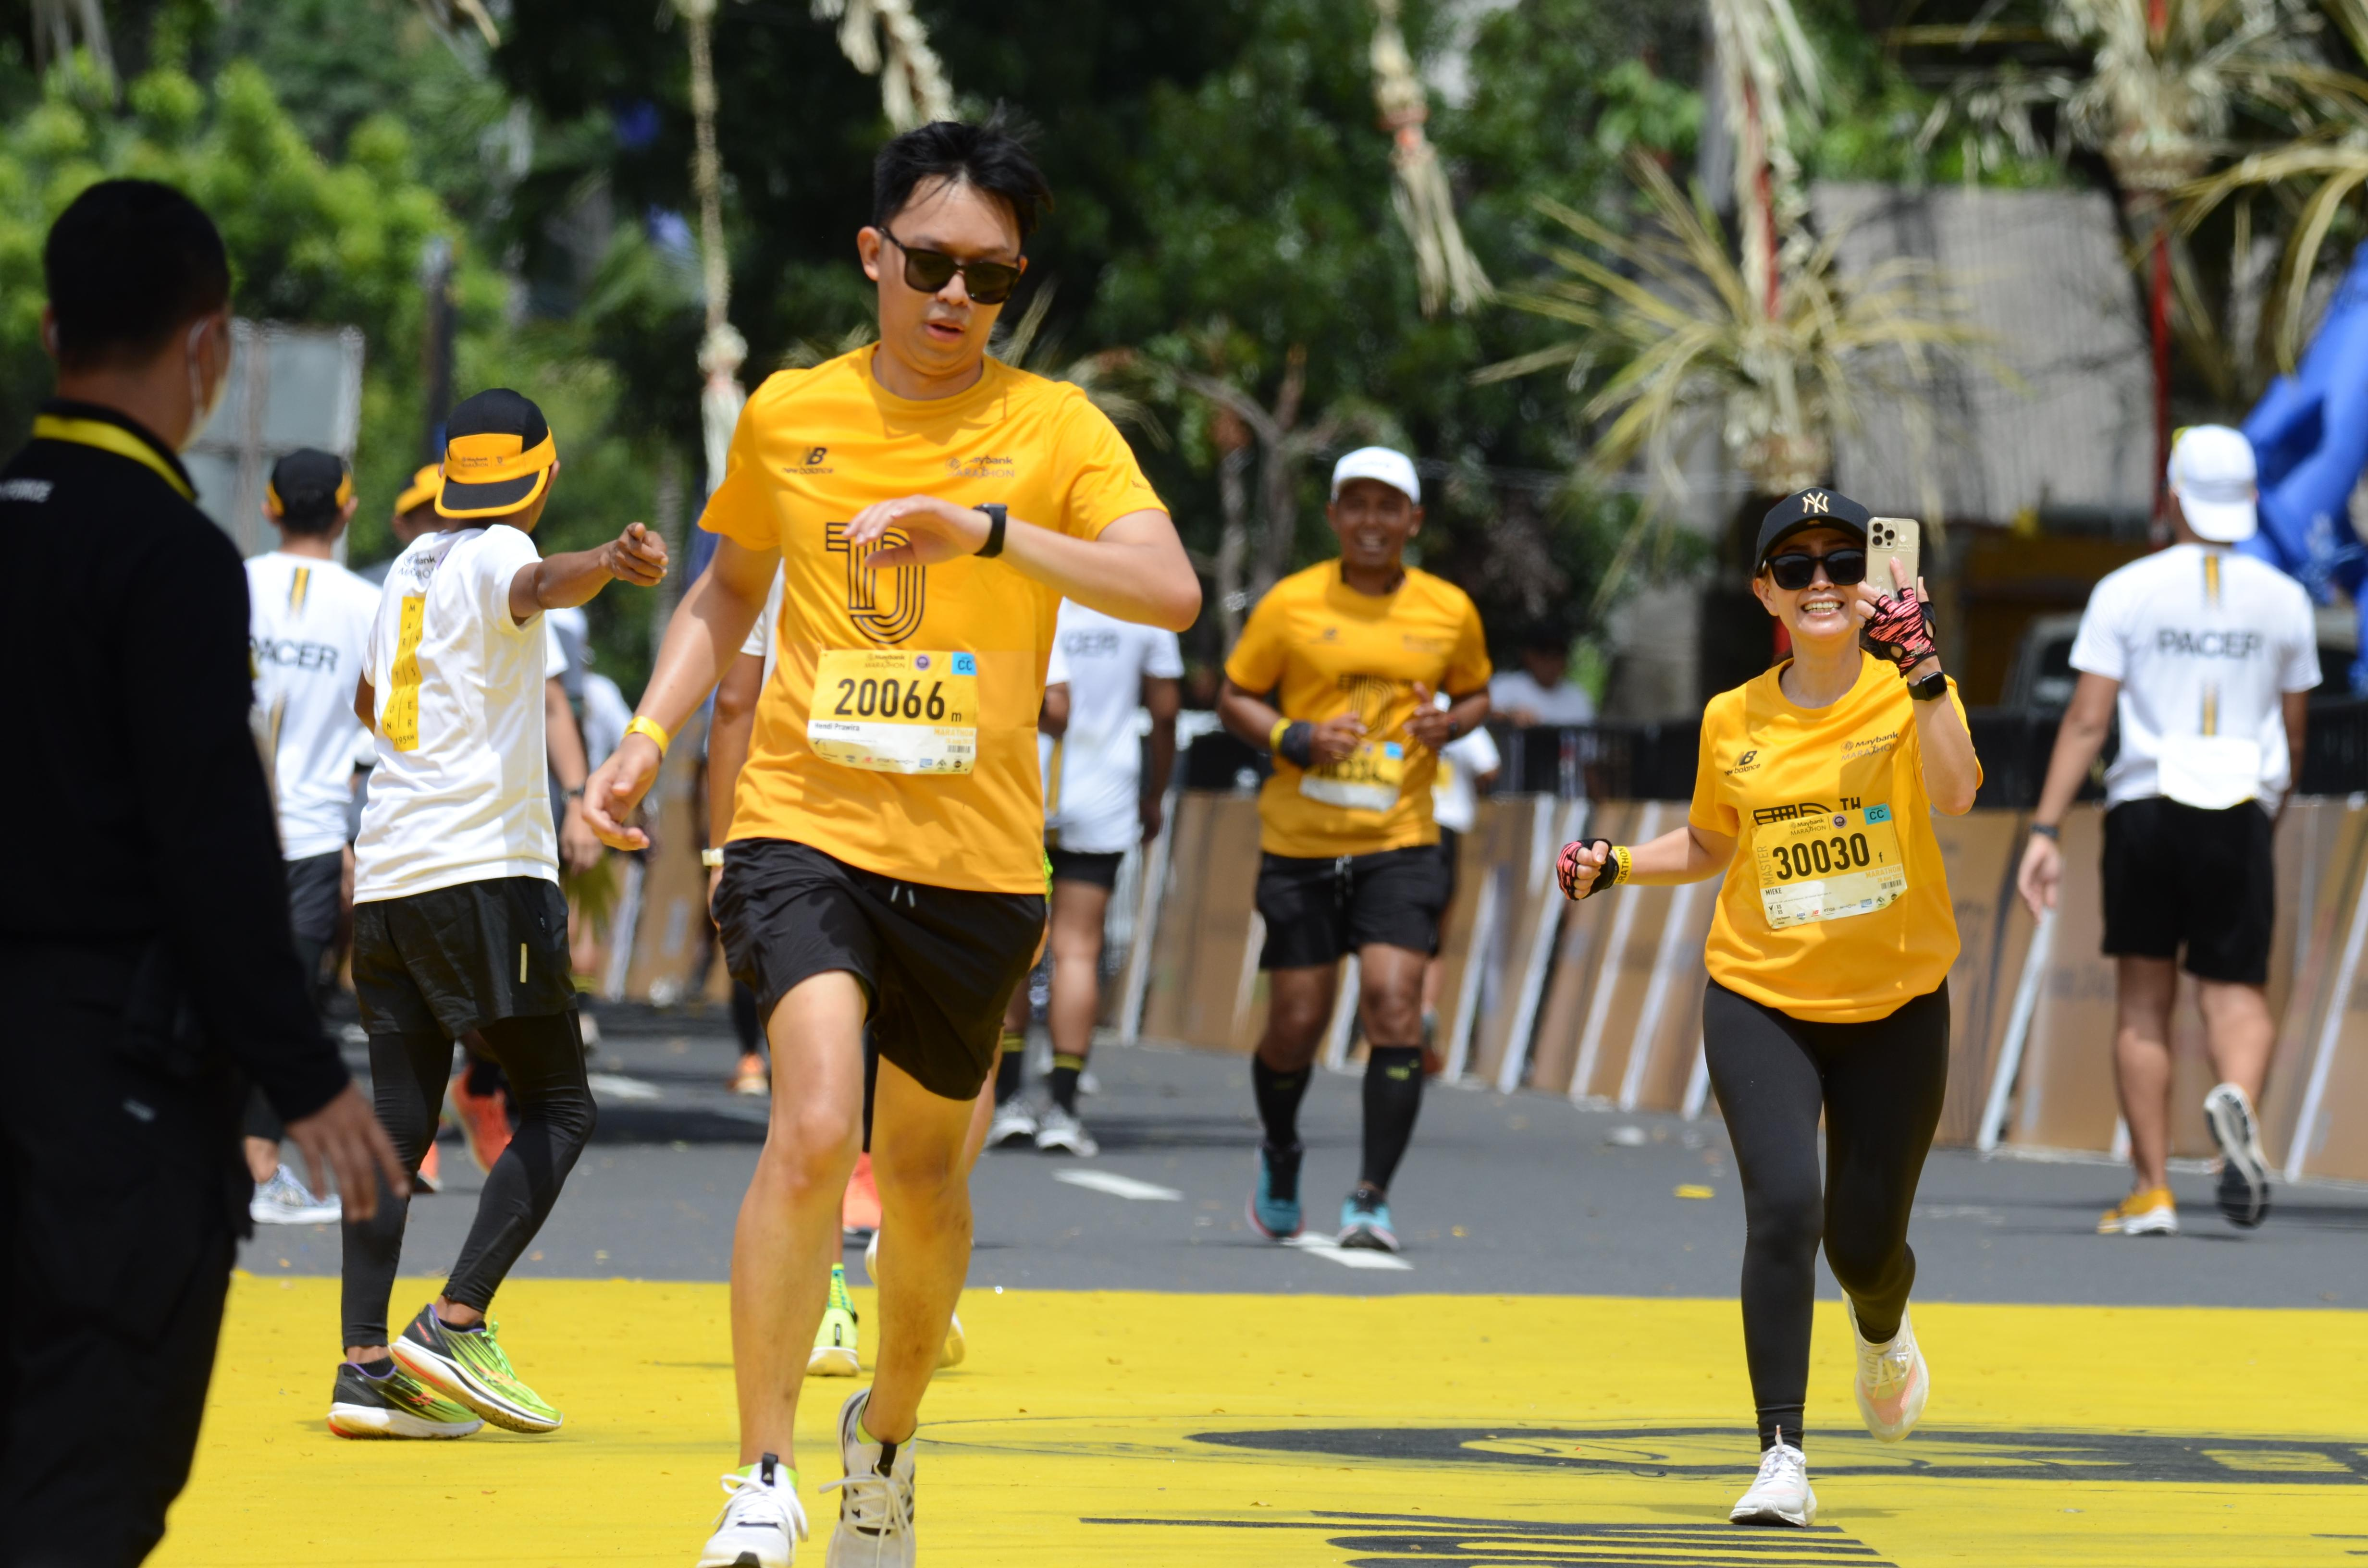bib: (810, 654, 977, 772), (1745, 814, 1906, 922), (1320, 742, 1405, 817)
